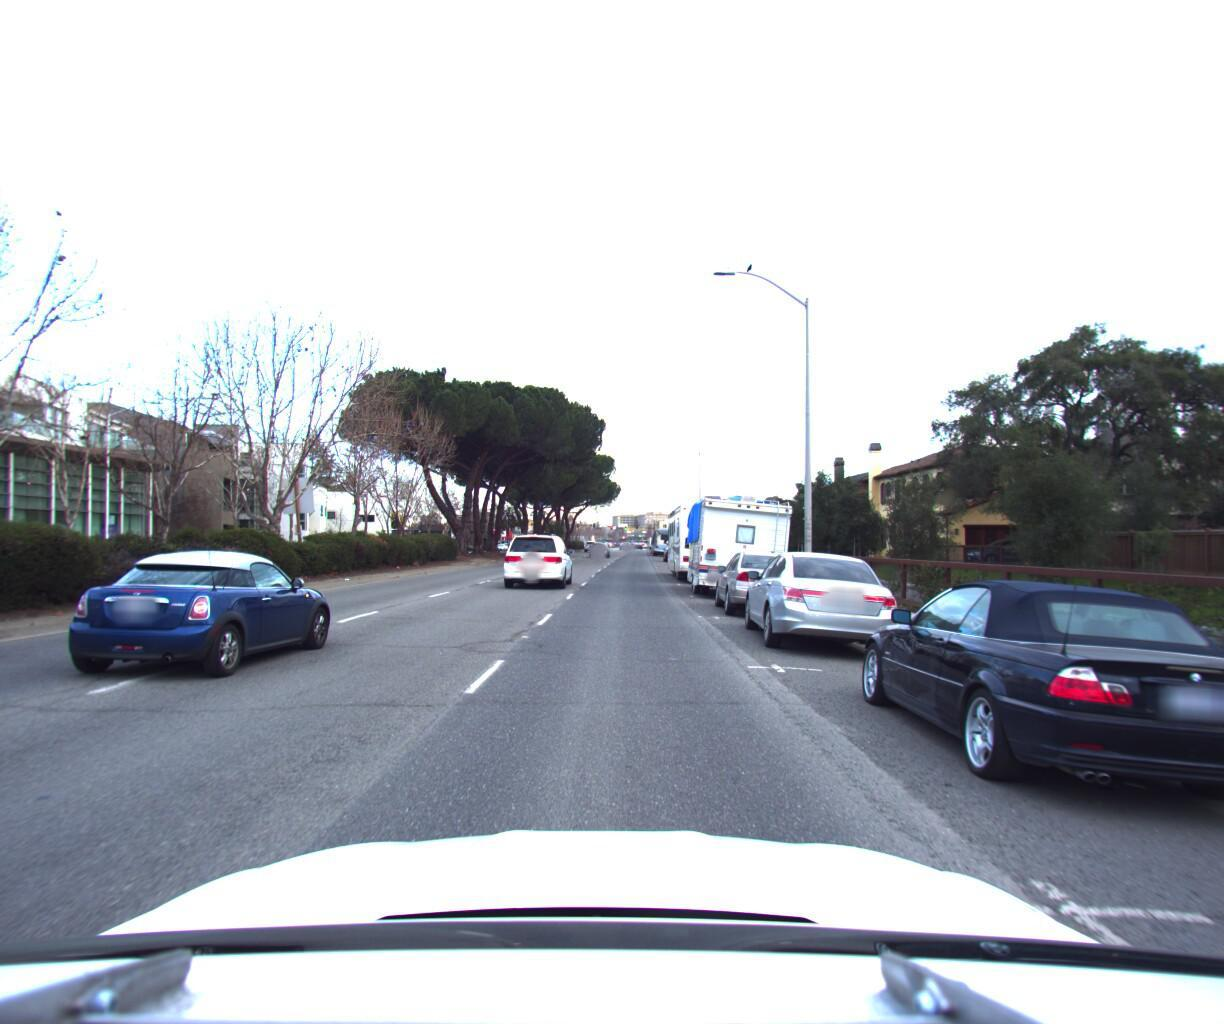bus: (663, 481, 749, 579)
car: (844, 562, 1224, 856), (62, 540, 348, 677), (736, 540, 909, 658), (709, 540, 815, 616), (498, 527, 576, 583), (585, 531, 611, 550)
other_vehicle: (680, 487, 797, 596)
